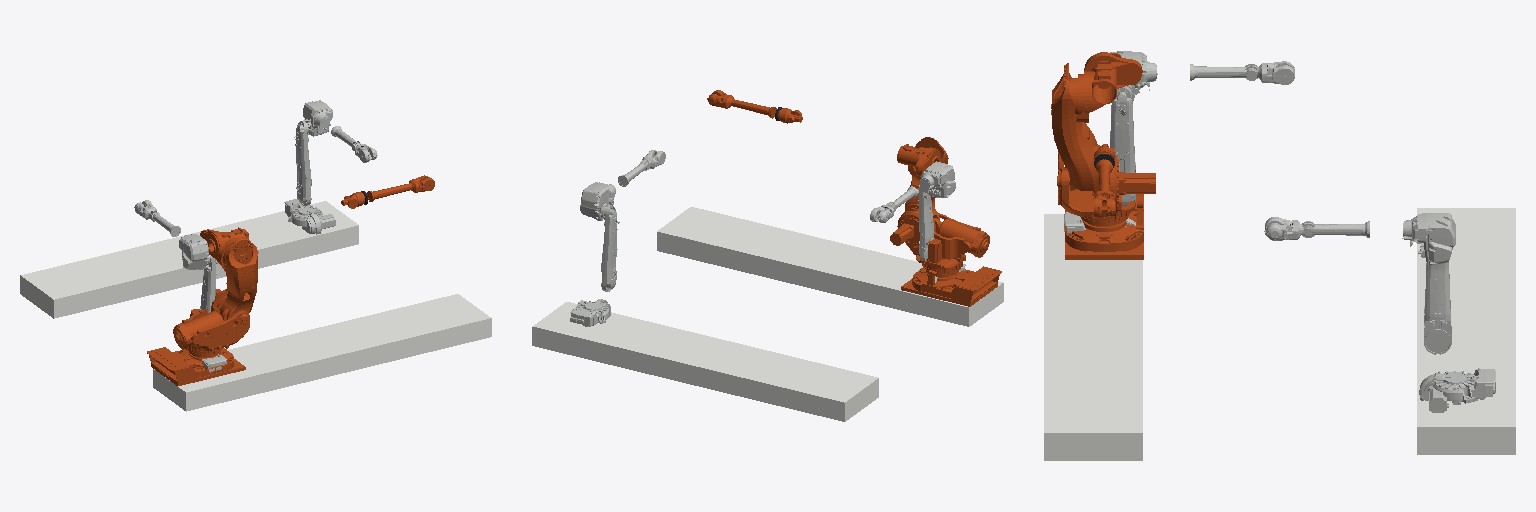
--- Facts derived from the render (not from the file) ---
Views: 3 orthographic renders of the robot side by side, from view 1: azimuth 30°, elevation 25°; view 2: azimuth 150°, elevation 25°; view 3: azimuth 270°, elevation 25°.
Model princeton_3rob_cell with 39 links and 38 joints (18 revolute, 2 prismatic, 18 fixed), rooted at world, posed all joints at 0.
Links seen in each view (by area): view 1: r2_axis, r1_axis, r3_link_2, r3_base_link, r3_link_1, r1_link_2, r2_link_3, r3_link_3, r3_balancer_piston, r1_link_3, r3_link_4, r2_link_2 (+1 smaller); view 2: r1_axis, r2_axis, r3_link_1, r3_base_link, r1_link_2, r2_link_3, r1_link_3, r3_balancer_piston, r3_link_3, r2_link_2, r1_base_link, r3_link_4 (+3 smaller); view 3: r2_axis, r1_axis, r3_link_2, r3_base_link, r3_link_3, r3_link_1, r1_link_2, r1_link_3, r2_link_2, r1_base_link, r1_link_4, r2_link_4 (+3 smaller).
Link boxes in pixels (x1,y1,x2,y2): r2_axis: (153, 294, 491, 411); r1_axis: (20, 201, 358, 318); r3_link_2: (220, 238, 258, 322); r3_base_link: (147, 347, 245, 385); r3_link_1: (182, 289, 249, 356); r1_link_2: (294, 121, 311, 205); r2_link_3: (179, 234, 209, 269); r3_link_3: (200, 227, 248, 271); r3_balancer_piston: (173, 310, 228, 349); r1_link_3: (303, 100, 332, 136); r3_link_4: (367, 175, 434, 201); r2_link_2: (200, 254, 217, 312); r1_axis: (532, 302, 878, 421); r2_axis: (657, 207, 1003, 326); r3_link_1: (890, 207, 983, 276); r3_base_link: (901, 266, 1001, 306); r1_link_2: (601, 205, 619, 291); r2_link_3: (920, 161, 955, 197); r1_link_3: (580, 182, 615, 220); r3_balancer_piston: (934, 218, 989, 257); r3_link_3: (897, 144, 940, 179); r2_link_2: (917, 185, 934, 260); r1_base_link: (570, 301, 609, 325); r3_link_4: (707, 90, 776, 118); r2_axis: (1044, 214, 1142, 460); r1_axis: (1417, 208, 1515, 454); r3_link_2: (1051, 63, 1098, 192); r3_base_link: (1065, 194, 1143, 259); r3_link_3: (1069, 52, 1142, 122); r3_link_1: (1057, 152, 1155, 225); r1_link_2: (1424, 262, 1451, 354); r1_link_3: (1402, 213, 1455, 264); r2_link_2: (1110, 86, 1135, 205); r1_base_link: (1433, 368, 1495, 403); r1_link_4: (1264, 217, 1369, 240); r2_link_4: (1190, 61, 1294, 84).
Bounding box of the posed robot: 5.21 × 4.63 × 2.5 m (x, y, z).
Meshes: 18 distinct files referenced, 24 mesh visuals loaded (15 binary STL); not drawn: 5 (reference not matched to a file when rendering).

URDF robot description (princeton_3rob_cell):
<?xml version="1.0" ?>
<!-- =================================================================================== -->
<!-- |    This document was autogenerated by xacro from princeton_3rob_cell.xacro      | -->
<!-- |    EDITING THIS FILE BY HAND IS NOT RECOMMENDED                                 | -->
<!-- =================================================================================== -->
<robot name="princeton_3rob_cell">
  <!-- Conversion were obtained from http://www.e-paint.co.uk/Lab_values.asp
       unless otherwise stated. -->
  <link name="world"/>
  <!-- -->
  <!--ROBOT 1-->
  <joint name="r1_world_joint" type="fixed">
    <parent link="world"/>
    <child link="r1_axis"/>
    <origin rpy="0.0 0.0 3.14159" xyz="3.70 3.45 0.02"/>
  </joint>
  <!-- Conversion were obtained from http://www.e-paint.co.uk/Lab_values.asp
       unless otherwise stated. -->
  <!-- Conversion were obtained from http://www.e-paint.co.uk/Lab_values.asp
       unless otherwise stated. -->
  <!-- LINEAR AXIS -->
  <!-- linear axis link list -->
  <link name="r1_axis">
    <inertial>
      <origin xyz="0.0 0.0 0.0"/>
      <mass value="120"/>
      <inertia ixx="-4.98000" ixy="-0.00000" ixz="2.70000" iyy="-5.95200" iyz="-0.00000" izz="0.82800"/>
    </inertial>
    <visual>
      <geometry>
        <mesh filename="package://princeton_cell/meshes/visual/axis.stl"/>
      </geometry>
      <material name="">
        <color rgba="0.9254902 0.9254902 0.9058824 1"/>
      </material>
    </visual>
    <collision>
      <geometry>
        <mesh filename="package://princeton_cell/meshes/collision/axis.stl"/>
      </geometry>
    </collision>
  </link>
  <link name="r1_cart">
    <inertial>
      <origin xyz="0.0 0.0 0.0"/>
      <mass value="120.00000"/>
      <inertia ixx="-4.98000" ixy="-0.00000" ixz="2.70000" iyy="-5.95200" iyz="-0.00000" izz="0.82800"/>
    </inertial>
    <visual>
      <geometry>
        <mesh filename="package://princeton_cell/meshes/visual/cart.stl"/>
      </geometry>
      <material name="">
        <color rgba="0.9254902 0.9254902 0.9058824 1"/>
      </material>
    </visual>
    <collision>
      <geometry>
        <mesh filename="package://princeton_cell/meshes/collision/cart.stl"/>
      </geometry>
    </collision>
  </link>
  <!-- linear axis joint list -->
  <joint name="r1_cart_joint" type="prismatic">
    <parent link="r1_axis"/>
    <child link="r1_cart"/>
    <origin rpy="0 0 0 " xyz="0 0 0"/>
    <axis xyz="1 0 0"/>
    <limit effort="100000" lower="0" upper="3.9" velocity="2.618"/>
    <dynamics damping="0.2" friction="0"/>
  </joint>
  <joint name="r1_abb_joint" type="fixed">
    <parent link="r1_cart"/>
    <child link="r1_base_link"/>
    <origin rpy="0 0 1.5707963267948966 " xyz="0 0 0 "/>
    <dynamics damping="0.2" friction="0"/>
  </joint>
  <!-- ARE WE MISSING A WORLD TO AXIS fixed joint? for only the abb_on_axis group?-->
  <!-- IRB4600 -->
  <!-- irb4600 link list -->
  <link name="r1_base_link">
    <inertial>
      <origin xyz="0.0 0.0 0.0"/>
      <mass value="120.00000"/>
      <inertia ixx="-4.98000" ixy="-0.00000" ixz="2.70000" iyy="-5.95200" iyz="-0.00000" izz="0.82800"/>
    </inertial>
    <visual>
      <geometry>
        <mesh filename="package://abb_irb4600_40_255/meshes/visual/base_link.stl"/>
      </geometry>
      <material name="">
        <color rgba="0.7725490 0.7803922 0.7686275 1"/>
      </material>
    </visual>
    <collision>
      <geometry>
        <mesh filename="package://abb_irb4600_40_255/meshes/collision/base_link.stl"/>
      </geometry>
    </collision>
  </link>
  <link name="r1_link_1">
    <inertial>
      <origin xyz="0.18000 0.00000 0.50000"/>
      <mass value="120.00000"/>
      <inertia ixx="-4.98000" ixy="-0.00000" ixz="2.70000" iyy="-5.95200" iyz="-0.00000" izz="0.82800"/>
    </inertial>
    <visual>
      <geometry>
        <mesh filename="package://abb_irb4600_40_255/meshes/visual/link_1.stl"/>
      </geometry>
      <material name="">
        <color rgba="0.7725490 0.7803922 0.7686275 1"/>
      </material>
    </visual>
    <collision>
      <geometry>
        <mesh filename="package://abb_irb4600_40_255/meshes/collision/link_1.stl"/>
      </geometry>
    </collision>
  </link>
  <link name="r1_link_2">
    <inertial>
      <origin xyz="0.94000 0.08000 -0.34000"/>
      <mass value="120.00000"/>
      <inertia ixx="-2.96000" ixy="2.25600" ixz="-9.58800" iyy="-18.72601" iyz="-0.81600" izz="-14.95000"/>
    </inertial>
    <visual>
      <geometry>
        <mesh filename="package://abb_irb4600_40_255/meshes/visual/link_2.stl"/>
      </geometry>
      <material name="">
        <color rgba="0.7725490 0.7803922 0.7686275 1"/>
      </material>
    </visual>
    <collision>
      <geometry>
        <mesh filename="package://abb_irb4600_40_255/meshes/collision/link_2.stl"/>
      </geometry>
    </collision>
  </link>
  <link name="r1_link_3">
    <inertial>
      <origin xyz="0.07000 -0.26600 0.08800"/>
      <mass value="120.00000"/>
      <inertia ixx="1.34500" ixy="-0.55860" ixz="0.18480" iyy="4.65068" iyz="-0.70224" izz="2.76032"/>
    </inertial>
    <visual>
      <geometry>
        <mesh filename="package://abb_irb4600_40_255/meshes/visual/link_3.stl"/>
      </geometry>
      <material name="">
        <color rgba="0.7725490 0.7803922 0.7686275 1"/>
      </material>
    </visual>
    <collision>
      <geometry>
        <mesh filename="package://abb_irb4600_40_255/meshes/collision/link_3.stl"/>
      </geometry>
    </collision>
  </link>
  <link name="r1_link_4">
    <inertial>
      <origin xyz="0.00000 0.00000 1.00000"/>
      <mass value="40.00000"/>
      <inertia ixx="-8.00000" ixy="-0.00000" ixz="-0.00000" iyy="-8.00000" iyz="-0.00000" izz="0.48200"/>
    </inertial>
    <visual>
      <geometry>
        <mesh filename="package://abb_irb4600_40_255/meshes/visual/link_4.stl"/>
      </geometry>
      <material name="">
        <color rgba="0.7725490 0.7803922 0.7686275 1"/>
      </material>
    </visual>
    <collision>
      <geometry>
        <mesh filename="package://abb_irb4600_40_255/meshes/collision/link_4.stl"/>
      </geometry>
    </collision>
  </link>
  <link name="r1_link_5">
    <inertial>
      <origin xyz="0.14000 0.00000 0.00000"/>
      <mass value="10.00000"/>
      <inertia ixx="0.04000" ixy="-0.00000" ixz="-0.00000" iyy="-0.00900" iyz="-0.00000" izz="-0.00400"/>
    </inertial>
    <visual>
      <geometry>
        <mesh filename="package://abb_irb4600_40_255/meshes/visual/link_5.stl"/>
      </geometry>
      <material name="">
        <color rgba="0.7725490 0.7803922 0.7686275 1"/>
      </material>
    </visual>
    <collision>
      <geometry>
        <mesh filename="package://abb_irb4600_40_255/meshes/collision/link_5.stl"/>
      </geometry>
    </collision>
  </link>
  <link name="r1_link_6">
    <inertial>
      <origin xyz="0.08100 -0.09100 0.33200"/>
      <mass value="5.00000"/>
      <inertia ixx="-0.29652" ixy="-0.03686" ixz="0.09396" iyy="-0.28792" iyz="-0.10556" izz="-0.04621"/>
    </inertial>
    <visual>
      <geometry>
        <mesh filename="package://abb_irb4600_40_255/meshes/visual/link_6.stl"/>
      </geometry>
      <material name="">
        <color rgba="0.1882353 0.1960784 0.2039216 1"/>
      </material>
    </visual>
    <collision>
      <geometry>
        <mesh filename="package://abb_irb4600_40_255/meshes/collision/link_6.stl"/>
      </geometry>
    </collision>
  </link>
  <link name="r1_tool0"/>
  <!-- irb4600 joint list -->
  <joint name="r1_joint_1" type="revolute">
    <parent link="r1_base_link"/>
    <child link="r1_link_1"/>
    <origin rpy="0 0 0 " xyz="0 0 0"/>
    <axis xyz="0 0 1"/>
    <limit effort="100000" lower="-3.14159" upper="3.14159" velocity="2.618"/>
    <dynamics damping="0.2" friction="0"/>
  </joint>
  <joint name="r1_joint_2" type="revolute">
    <parent link="r1_link_1"/>
    <child link="r1_link_2"/>
    <origin rpy="0 -0 0 " xyz="0.175 0 0.495"/>
    <axis xyz="0 1 0"/>
    <limit effort="100000" lower="-1.5708" upper="2.61799" velocity="2.618"/>
    <dynamics damping="0.2" friction="0"/>
  </joint>
  <joint name="r1_joint_3" type="revolute">
    <parent link="r1_link_2"/>
    <child link="r1_link_3"/>
    <origin rpy="0 -0 0 " xyz="0 0 1.095"/>
    <axis xyz="0 1 0"/>
    <limit effort="100000" lower="-3.14159" upper="1.309" velocity="2.618"/>
    <dynamics damping="0.2" friction="0"/>
  </joint>
  <joint name="r1_joint_4" type="revolute">
    <parent link="r1_link_3"/>
    <child link="r1_link_4"/>
    <origin rpy="0 -0 0 " xyz="0.332 0 0.175"/>
    <axis xyz="1 0 0"/>
    <limit effort="10000" lower="-6.98132" upper="6.98132" velocity="6.2832"/>
    <dynamics damping="0.2" friction="0"/>
  </joint>
  <joint name="r1_joint_5" type="revolute">
    <parent link="r1_link_4"/>
    <child link="r1_link_5"/>
    <origin rpy="0 -0 0 " xyz="0.939 0 0"/>
    <axis xyz="0 1 0"/>
    <limit effort="100000" lower="-2.18166" upper="2.0944" velocity="6.2832"/>
    <dynamics damping="0.2" friction="0"/>
  </joint>
  <joint name="r1_joint_6" type="revolute">
    <parent link="r1_link_5"/>
    <child link="r1_link_6"/>
    <origin rpy="0 1.57076 0 " xyz="0.135 0 0"/>
    <axis xyz="0 0 1"/>
    <limit effort="100000" lower="-6.98132" upper="6.98132" velocity="7.854"/>
    <dynamics damping="0.2" friction="0"/>
  </joint>
  <joint name="r1_joint_6-tool0" type="fixed">
    <parent link="r1_link_6"/>
    <child link="r1_tool0"/>
    <origin rpy="0 0 0" xyz="0 0 0"/>
  </joint>
  <!-- -->
  <!-- IRB4600 base_link to ABB World Coordinates transform -->
  <link name="r1_base"/>
  <joint name="r1_base_link-base" type="fixed">
    <origin rpy="0 0 0" xyz="0 0 0"/>
    <parent link="r1_base_link"/>
    <child link="r1_base"/>
  </joint>
  <!-- GRIPPER -->
  <!-- gripper link list -->
  <link name="r1_gripper">
    <visual>
      <geometry>
        <mesh filename="package://princeton_cell/meshes/visual/gripper.stl"/>
      </geometry>
    </visual>
    <collision>
      <geometry>
        <mesh filename="package://princeton_cell/meshes/collision/gripper.stl"/>
      </geometry>
    </collision>
  </link>
  <link name="r1_tcp"/>
  <!-- gripper joint list -->
  <joint name="r1_gripper_joint" type="fixed">
    <parent link="r1_tool0"/>
    <child link="r1_gripper"/>
    <origin rpy="0 0 0" xyz="0 0 0"/>
  </joint>
  <joint name="r1_tcp_joint" type="fixed">
    <origin rpy="0 0 0" xyz="0 0 0.352"/>
    <parent link="r1_gripper"/>
    <child link="r1_tcp"/>
  </joint>
  <!-- -->
  <!--ROBOT 2-->
  <joint name="r2_world_joint" type="fixed">
    <parent link="world"/>
    <child link="r2_axis"/>
    <origin rpy="0.0 0.0 0.0" xyz="0.0 0.0 0.0"/>
  </joint>
  <!-- Conversion were obtained from http://www.e-paint.co.uk/Lab_values.asp
       unless otherwise stated. -->
  <!-- Conversion were obtained from http://www.e-paint.co.uk/Lab_values.asp
       unless otherwise stated. -->
  <!-- LINEAR AXIS -->
  <!-- linear axis link list -->
  <link name="r2_axis">
    <inertial>
      <origin xyz="0.0 0.0 0.0"/>
      <mass value="120"/>
      <inertia ixx="-4.98000" ixy="-0.00000" ixz="2.70000" iyy="-5.95200" iyz="-0.00000" izz="0.82800"/>
    </inertial>
    <visual>
      <geometry>
        <mesh filename="package://princeton_cell/meshes/visual/axis.stl"/>
      </geometry>
      <material name="">
        <color rgba="0.9254902 0.9254902 0.9058824 1"/>
      </material>
    </visual>
    <collision>
      <geometry>
        <mesh filename="package://princeton_cell/meshes/collision/axis.stl"/>
      </geometry>
    </collision>
  </link>
  <link name="r2_cart">
    <inertial>
      <origin xyz="0.0 0.0 0.0"/>
      <mass value="120.00000"/>
      <inertia ixx="-4.98000" ixy="-0.00000" ixz="2.70000" iyy="-5.95200" iyz="-0.00000" izz="0.82800"/>
    </inertial>
    <visual>
      <geometry>
        <mesh filename="package://princeton_cell/meshes/visual/cart.stl"/>
      </geometry>
      <material name="">
        <color rgba="0.9254902 0.9254902 0.9058824 1"/>
      </material>
    </visual>
    <collision>
      <geometry>
        <mesh filename="package://princeton_cell/meshes/collision/cart.stl"/>
      </geometry>
    </collision>
  </link>
  <!-- linear axis joint list -->
  <joint name="r2_cart_joint" type="prismatic">
    <parent link="r2_axis"/>
    <child link="r2_cart"/>
    <origin rpy="0 0 0 " xyz="0 0 0"/>
    <axis xyz="1 0 0"/>
    <limit effort="100000" lower="0" upper="3.9" velocity="2.618"/>
    <dynamics damping="0.2" friction="0"/>
  </joint>
  <joint name="r2_abb_joint" type="fixed">
    <parent link="r2_cart"/>
    <child link="r2_base_link"/>
    <origin rpy="0 0 1.5707963267948966 " xyz="0 0 0 "/>
    <dynamics damping="0.2" friction="0"/>
  </joint>
  <!-- ARE WE MISSING A WORLD TO AXIS fixed joint? for only the abb_on_axis group?-->
  <!-- IRB4600 -->
  <!-- irb4600 link list -->
  <link name="r2_base_link">
    <inertial>
      <origin xyz="0.0 0.0 0.0"/>
      <mass value="120.00000"/>
      <inertia ixx="-4.98000" ixy="-0.00000" ixz="2.70000" iyy="-5.95200" iyz="-0.00000" izz="0.82800"/>
    </inertial>
    <visual>
      <geometry>
        <mesh filename="package://abb_irb4600_40_255/meshes/visual/base_link.stl"/>
      </geometry>
      <material name="">
        <color rgba="0.7725490 0.7803922 0.7686275 1"/>
      </material>
    </visual>
    <collision>
      <geometry>
        <mesh filename="package://abb_irb4600_40_255/meshes/collision/base_link.stl"/>
      </geometry>
    </collision>
  </link>
  <link name="r2_link_1">
    <inertial>
      <origin xyz="0.18000 0.00000 0.50000"/>
      <mass value="120.00000"/>
      <inertia ixx="-4.98000" ixy="-0.00000" ixz="2.70000" iyy="-5.95200" iyz="-0.00000" izz="0.82800"/>
    </inertial>
    <visual>
      <geometry>
        <mesh filename="package://abb_irb4600_40_255/meshes/visual/link_1.stl"/>
      </geometry>
      <material name="">
        <color rgba="0.7725490 0.7803922 0.7686275 1"/>
      </material>
    </visual>
    <collision>
      <geometry>
        <mesh filename="package://abb_irb4600_40_255/meshes/collision/link_1.stl"/>
      </geometry>
    </collision>
  </link>
  <link name="r2_link_2">
    <inertial>
      <origin xyz="0.94000 0.08000 -0.34000"/>
      <mass value="120.00000"/>
      <inertia ixx="-2.96000" ixy="2.25600" ixz="-9.58800" iyy="-18.72601" iyz="-0.81600" izz="-14.95000"/>
    </inertial>
    <visual>
      <geometry>
        <mesh filename="package://abb_irb4600_40_255/meshes/visual/link_2.stl"/>
      </geometry>
      <material name="">
        <color rgba="0.7725490 0.7803922 0.7686275 1"/>
      </material>
    </visual>
    <collision>
      <geometry>
        <mesh filename="package://abb_irb4600_40_255/meshes/collision/link_2.stl"/>
      </geometry>
    </collision>
  </link>
  <link name="r2_link_3">
    <inertial>
      <origin xyz="0.07000 -0.26600 0.08800"/>
      <mass value="120.00000"/>
      <inertia ixx="1.34500" ixy="-0.55860" ixz="0.18480" iyy="4.65068" iyz="-0.70224" izz="2.76032"/>
    </inertial>
    <visual>
      <geometry>
        <mesh filename="package://abb_irb4600_40_255/meshes/visual/link_3.stl"/>
      </geometry>
      <material name="">
        <color rgba="0.7725490 0.7803922 0.7686275 1"/>
      </material>
    </visual>
    <collision>
      <geometry>
        <mesh filename="package://abb_irb4600_40_255/meshes/collision/link_3.stl"/>
      </geometry>
    </collision>
  </link>
  <link name="r2_link_4">
    <inertial>
      <origin xyz="0.00000 0.00000 1.00000"/>
      <mass value="40.00000"/>
      <inertia ixx="-8.00000" ixy="-0.00000" ixz="-0.00000" iyy="-8.00000" iyz="-0.00000" izz="0.48200"/>
    </inertial>
    <visual>
      <geometry>
        <mesh filename="package://abb_irb4600_40_255/meshes/visual/link_4.stl"/>
      </geometry>
      <material name="">
        <color rgba="0.7725490 0.7803922 0.7686275 1"/>
      </material>
    </visual>
    <collision>
      <geometry>
        <mesh filename="package://abb_irb4600_40_255/meshes/collision/link_4.stl"/>
      </geometry>
    </collision>
  </link>
  <link name="r2_link_5">
    <inertial>
      <origin xyz="0.14000 0.00000 0.00000"/>
      <mass value="10.00000"/>
      <inertia ixx="0.04000" ixy="-0.00000" ixz="-0.00000" iyy="-0.00900" iyz="-0.00000" izz="-0.00400"/>
    </inertial>
    <visual>
      <geometry>
        <mesh filename="package://abb_irb4600_40_255/meshes/visual/link_5.stl"/>
      </geometry>
      <material name="">
        <color rgba="0.7725490 0.7803922 0.7686275 1"/>
      </material>
    </visual>
    <collision>
      <geometry>
        <mesh filename="package://abb_irb4600_40_255/meshes/collision/link_5.stl"/>
      </geometry>
    </collision>
  </link>
  <link name="r2_link_6">
    <inertial>
      <origin xyz="0.08100 -0.09100 0.33200"/>
      <mass value="5.00000"/>
      <inertia ixx="-0.29652" ixy="-0.03686" ixz="0.09396" iyy="-0.28792" iyz="-0.10556" izz="-0.04621"/>
    </inertial>
    <visual>
      <geometry>
        <mesh filename="package://abb_irb4600_40_255/meshes/visual/link_6.stl"/>
      </geometry>
      <material name="">
        <color rgba="0.1882353 0.1960784 0.2039216 1"/>
      </material>
    </visual>
    <collision>
      <geometry>
        <mesh filename="package://abb_irb4600_40_255/meshes/collision/link_6.stl"/>
      </geometry>
    </collision>
  </link>
  <link name="r2_tool0"/>
  <!-- irb4600 joint list -->
  <joint name="r2_joint_1" type="revolute">
    <parent link="r2_base_link"/>
    <child link="r2_link_1"/>
    <origin rpy="0 0 0 " xyz="0 0 0"/>
    <axis xyz="0 0 1"/>
    <limit effort="100000" lower="-3.14159" upper="3.14159" velocity="2.618"/>
    <dynamics damping="0.2" friction="0"/>
  </joint>
  <joint name="r2_joint_2" type="revolute">
    <parent link="r2_link_1"/>
    <child link="r2_link_2"/>
    <origin rpy="0 -0 0 " xyz="0.175 0 0.495"/>
    <axis xyz="0 1 0"/>
    <limit effort="100000" lower="-1.5708" upper="2.61799" velocity="2.618"/>
    <dynamics damping="0.2" friction="0"/>
  </joint>
  <joint name="r2_joint_3" type="revolute">
    <parent link="r2_link_2"/>
    <child link="r2_link_3"/>
    <origin rpy="0 -0 0 " xyz="0 0 1.095"/>
    <axis xyz="0 1 0"/>
    <limit effort="100000" lower="-3.14159" upper="1.309" velocity="2.618"/>
    <dynamics damping="0.2" friction="0"/>
  </joint>
  <joint name="r2_joint_4" type="revolute">
    <parent link="r2_link_3"/>
    <child link="r2_link_4"/>
    <origin rpy="0 -0 0 " xyz="0.332 0 0.175"/>
    <axis xyz="1 0 0"/>
    <limit effort="10000" lower="-6.98132" upper="6.98132" velocity="6.2832"/>
    <dynamics damping="0.2" friction="0"/>
  </joint>
  <joint name="r2_joint_5" type="revolute">
    <parent link="r2_link_4"/>
    <child link="r2_link_5"/>
    <origin rpy="0 -0 0 " xyz="0.939 0 0"/>
    <axis xyz="0 1 0"/>
    <limit effort="100000" lower="-2.18166" upper="2.0944" velocity="6.2832"/>
    <dynamics damping="0.2" friction="0"/>
  </joint>
  <joint name="r2_joint_6" type="revolute">
    <parent link="r2_link_5"/>
    <child link="r2_link_6"/>
    <origin rpy="0 1.57076 0 " xyz="0.135 0 0"/>
    <axis xyz="0 0 1"/>
    <limit effort="100000" lower="-6.98132" upper="6.98132" velocity="7.854"/>
    <dynamics damping="0.2" friction="0"/>
  </joint>
  <joint name="r2_joint_6-tool0" type="fixed">
    <parent link="r2_link_6"/>
    <child link="r2_tool0"/>
    <origin rpy="0 0 0" xyz="0 0 0"/>
  </joint>
  <!-- -->
  <!-- IRB4600 base_link to ABB World Coordinates transform -->
  <link name="r2_base"/>
  <joint name="r2_base_link-base" type="fixed">
    <origin rpy="0 0 0" xyz="0 0 0"/>
    <parent link="r2_base_link"/>
    <child link="r2_base"/>
  </joint>
  <!-- GRIPPER -->
  <!-- gripper link list -->
  <link name="r2_gripper">
    <visual>
      <geometry>
        <mesh filename="package://princeton_cell/meshes/visual/gripper.stl"/>
      </geometry>
    </visual>
    <collision>
      <geometry>
        <mesh filename="package://princeton_cell/meshes/collision/gripper.stl"/>
      </geometry>
    </collision>
  </link>
  <link name="r2_tcp"/>
  <!-- gripper joint list -->
  <joint name="r2_gripper_joint" type="fixed">
    <parent link="r2_tool0"/>
    <child link="r2_gripper"/>
    <origin rpy="0 0 0" xyz="0 0 0"/>
  </joint>
  <joint name="r2_tcp_joint" type="fixed">
    <origin rpy="0 0 0" xyz="0 0 0.352"/>
    <parent link="r2_gripper"/>
    <child link="r2_tcp"/>
  </joint>
  <!-- -->
  <!--ROBOT 3-->
  <joint name="r3_world_joint" type="fixed">
    <parent link="world"/>
    <child link="r3_base_link"/>
    <origin rpy="0.0 0.0 0.0" xyz="0.0 0.0 0.0"/>
  </joint>
  <!-- GRIPPER -->
  <!-- gripper link list -->
  <link name="r3_gripper">
    <visual>
      <geometry>
        <mesh filename="package://princeton_cell/meshes/visual/gripper.stl"/>
      </geometry>
    </visual>
    <collision>
      <geometry>
        <mesh filename="package://princeton_cell/meshes/collision/gripper.stl"/>
      </geometry>
    </collision>
  </link>
  <link name="r3_tcp"/>
  <!-- gripper joint list -->
  <joint name="r3_gripper_joint" type="fixed">
    <parent link="r3_tool0"/>
    <child link="r3_gripper"/>
    <origin rpy="0 0 0" xyz="0 0 0"/>
  </joint>
  <joint name="r3_tcp_joint" type="fixed">
    <origin rpy="0 0 0" xyz="0 0 0.352"/>
    <parent link="r3_gripper"/>
    <child link="r3_tcp"/>
  </joint>
  <!-- IRB7600-->
  <!-- irb7600 link list -->
  <link name="r3_base_link">
    <visual>
      <origin rpy="0 0 0" xyz="0 0 0"/>
      <geometry>
        <mesh filename="package://abb_irb7600_400_255/meshes/visual/base_link.stl"/>
      </geometry>
      <material name="">
        <color rgba="0.7372549 0.3490196 0.1607843 1"/>
      </material>
    </visual>
    <collision>
      <geometry>
        <mesh filename="package://abb_irb7600_400_255/meshes/collision/base_link.stl"/>
      </geometry>
      <material name="">
        <color rgba="0.7372549 0.3490196 0.1607843 1"/>
      </material>
    </collision>
  </link>
  <link name="r3_link_1">
    <visual>
      <origin rpy="0 0 0" xyz="0 0 0"/>
      <geometry>
        <mesh filename="package://abb_irb7600_400_255/meshes/visual/link_1.stl"/>
      </geometry>
      <material name="">
        <color rgba="0.7372549 0.3490196 0.1607843 1"/>
      </material>
    </visual>
    <collision>
      <origin rpy="0 0 0" xyz="0 0 0"/>
      <geometry>
        <mesh filename="package://abb_irb7600_400_255/meshes/collision/link_1.stl"/>
      </geometry>
      <material name="">
        <color rgba="1 1 0 1"/>
      </material>
    </collision>
  </link>
  <link name="r3_link_2">
    <visual>
      <origin rpy="0 0 0" xyz="0 0 0"/>
      <geometry>
        <mesh filename="package://abb_irb7600_400_255/meshes/visual/link_2.stl"/>
      </geometry>
      <material name="">
        <color rgba="0.7372549 0.3490196 0.1607843 1"/>
      </material>
    </visual>
    <collision>
      <origin rpy="0 0 0" xyz="0 0 0"/>
      <geometry>
        <mesh filename="package://abb_irb7600_400_255/meshes/collision/link_2.stl"/>
      </geometry>
      <material name="">
        <color rgba="1 1 0 1"/>
      </material>
    </collision>
  </link>
  <link name="r3_link_3">
    <visual>
      <origin rpy="0 0 0" xyz="0 0 0"/>
      <geometry>
        <mesh filename="package://abb_irb7600_400_255/meshes/visual/link_3.stl"/>
      </geometry>
      <material name="">
        <color rgba="0.7372549 0.3490196 0.1607843 1"/>
      </material>
    </visual>
    <collision>
      <origin rpy="0 0 0" xyz="0 0 0"/>
      <geometry>
        <mesh filename="package://abb_irb7600_400_255/meshes/collision/link_3.stl"/>
      </geometry>
      <material name="">
        <color rgba="1 1 0 1"/>
      </material>
    </collision>
  </link>
  <link name="r3_link_4">
    <visual>
      <origin rpy="0 0 0" xyz="2.012 0 0"/>
      <geometry>
        <mesh filename="package://abb_irb7600_support/meshes/irb7600_150_350/visual/link_4.stl"/>
      </geometry>
      <material name="">
        <color rgba="0.7372549 0.3490196 0.1607843 1"/>
      </material>
    </visual>
    <collision>
      <origin rpy="0 0 0" xyz="2.012 0 0"/>
      <geometry>
        <mesh filename="package://abb_irb7600_support/meshes/irb7600_150_350/collision/link_4.stl"/>
      </geometry>
      <material name="">
        <color rgba="1 1 0 1"/>
      </material>
    </collision>
  </link>
  <link name="r3_link_5">
    <visual>
      <origin rpy="0 0 0" xyz="0 0 0"/>
      <geometry>
        <mesh filename="package://abb_irb7600_400_255/meshes/visual/link_5.stl"/>
      </geometry>
      <material name="">
        <color rgba="0.7372549 0.3490196 0.1607843 1"/>
      </material>
    </visual>
    <collision>
      <origin rpy="0 0 0" xyz="0 0 0"/>
      <geometry>
        <mesh filename="package://abb_irb7600_400_255/meshes/collision/link_5.stl"/>
      </geometry>
      <material name="">
        <color rgba="1 1 0 1"/>
      </material>
    </collision>
  </link>
  <link name="r3_link_6">
    <visual>
      <origin rpy="0 0 0" xyz="0 0 0"/>
      <geometry>
        <mesh filename="package://abb_irb7600_400_255/meshes/visual/link_6.stl"/>
      </geometry>
      <material name="">
        <color rgba="0.1882353 0.1960784 0.2039216 1"/>
      </material>
    </visual>
    <collision>
      <origin rpy="0 0 0" xyz="0 0 0"/>
      <geometry>
        <mesh filename="package://abb_irb7600_400_255/meshes/collision/link_6.stl"/>
      </geometry>
      <material name="">
        <color rgba="0.1882353 0.1960784 0.2039216 1"/>
      </material>
    </collision>
  </link>
  <link name="r3_balancer_piston">
    <visual>
      <origin rpy="0 0 0" xyz="0 0 0"/>
      <geometry>
        <mesh filename="package://abb_irb7600_400_255/meshes/visual/balancer_piston.stl"/>
      </geometry>
      <material name="">
        <color rgba="0.7372549 0.3490196 0.1607843 1"/>
      </material>
    </visual>
    <collision>
      <origin rpy="0 0 0" xyz="0 0 0"/>
      <geometry>
        <mesh filename="package://abb_irb7600_400_255/meshes/collision/balancer_piston.stl"/>
      </geometry>
      <material name="">
        <color rgba="1 1 0 1"/>
      </material>
    </collision>
  </link>
  <link name="r3_tool0"/>
  <!-- end of link list -->
  <!-- joint list -->
  <joint name="r3_joint_1" type="revolute">
    <origin rpy="0 0 0" xyz="0 0 0"/>
    <parent link="r3_base_link"/>
    <child link="r3_link_1"/>
    <axis xyz="0 0 1"/>
    <limit effort="0" lower="-3.141592653589793" upper="3.141592653589793" velocity="1.7453292519943295"/>
  </joint>
  <joint name="r3_joint_2" type="revolute">
    <origin rpy="0 0 0" xyz="0.410 0 0.780"/>
    <parent link="r3_link_1"/>
    <child link="r3_link_2"/>
    <axis xyz="0 1 0"/>
    <limit effort="0" lower="-1.0471975511965976" upper="1.4835298641951802" velocity="1.0471975511965976"/>
  </joint>
  <joint name="r3_joint_3" type="revolute">
    <origin rpy="0 0 0" xyz="0 0 1.075"/>
    <parent link="r3_link_2"/>
    <child link="r3_link_3"/>
    <axis xyz="0 1 0"/>
    <limit effort="0" lower="-3.141592653589793" upper="1.0471975511965976" velocity="1.0471975511965976"/>
  </joint>
  <joint name="r3_joint_4" type="revolute">
    <origin rpy="0 0 0" xyz="0 0 0.165"/>
    <parent link="r3_link_3"/>
    <child link="r3_link_4"/>
    <axis xyz="1 0 0"/>
    <limit effort="0" lower="-5.235987755982989" upper="5.235987755982989" velocity="1.7453292519943295"/>
  </joint>
  <joint name="r3_joint_5" type="revolute">
    <origin rpy="0 0 0" xyz="2.012 0 0"/>
    <parent link="r3_link_4"/>
    <child link="r3_link_5"/>
    <axis xyz="0 1 0"/>
    <limit effort="0" lower="-1.7453292519943295" upper="1.7453292519943295" velocity="1.7453292519943295"/>
  </joint>
  <joint name="r3_joint_6" type="revolute">
    <origin rpy="0 0 0" xyz="0.250 0 0"/>
    <parent link="r3_link_5"/>
    <child link="r3_link_6"/>
    <axis xyz="1 0 0"/>
    <limit effort="0" lower="-6.283185307179586" upper="6.283185307179586" velocity="3.3161255787892263"/>
  </joint>
  <joint name="r3_joint_balancer_piston" type="fixed">
    <origin rpy="0 0 0" xyz="-0.380 0 0.6545"/>
    <parent link="r3_link_1"/>
    <child link="r3_balancer_piston"/>
  </joint>
  <joint name="r3_joint_6-tool0" type="fixed">
    <origin rpy="0 1.5707963267948966 0" xyz="0 0 0"/>
    <parent link="r3_link_6"/>
    <child link="r3_tool0"/>
  </joint>
  <!-- -->
  <!-- ROS-Industrial 'base' frame: base_link to ABB World Coordinates transform -->
  <link name="r3_base"/>
  <joint name="r3_base_link-base" type="fixed">
    <origin rpy="0 0 0" xyz="0 0 0"/>
    <parent link="r3_base_link"/>
    <child link="r3_base"/>
  </joint>
</robot>
